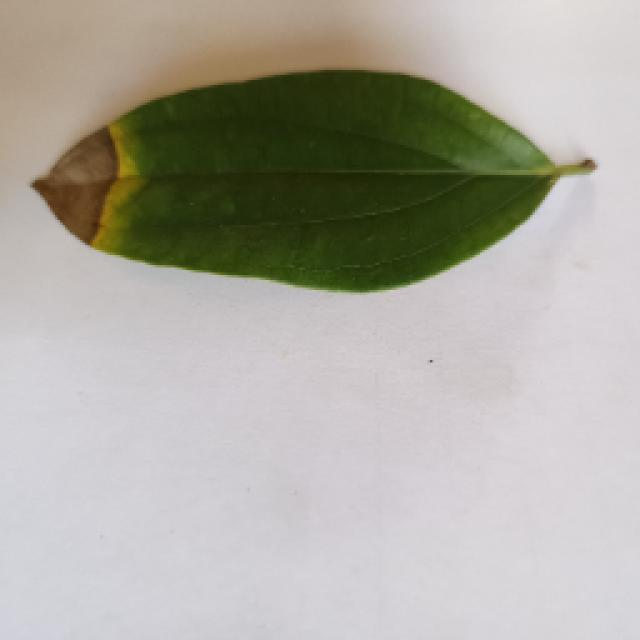footrot: (18, 57, 600, 295)
